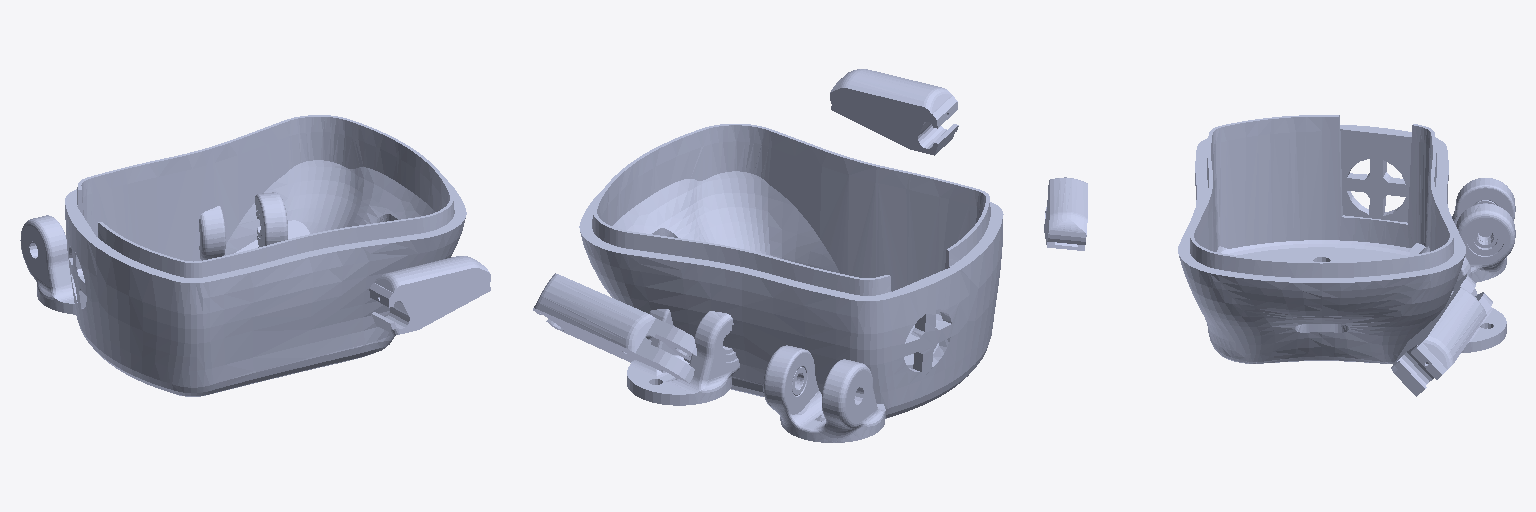
robot.urdf — Hand_Assem:
<robot
  name="Hand_Assem">
  <link
    name="base_link">
    <inertial>
      <origin
        xyz="-5.94499379767515E-07 0.00413446238542434 0.000131592809756376"
        rpy="0 0 0" />
      <mass
        value="0.119487276057046" />
      <inertia
        ixx="8.85596786118175E-05"
        ixy="3.17516300891029E-09"
        ixz="-2.20936042493155E-10"
        iyy="5.75221337379508E-05"
        iyz="7.86631733355722E-07"
        izz="0.000138119981949424" />
    </inertial>
    <visual>
      <origin
        xyz="0 0 0"
        rpy="0 0 0" />
      <geometry>
        <mesh
          filename="package://Hand_Assem/meshes/base_link.STL" />
      </geometry>
      <material
        name="">
        <color
          rgba="0.792156862745098 0.819607843137255 0.933333333333333 1" />
      </material>
    </visual>
    <collision>
      <origin
        xyz="0 0 0"
        rpy="0 0 0" />
      <geometry>
        <mesh
          filename="package://Hand_Assem/meshes/base_link.STL" />
      </geometry>
    </collision>
  </link>
  <link
    name="swivel1">
    <inertial>
      <origin
        xyz="1.21430643318377E-17 0.0025 -6.93889390390723E-18"
        rpy="0 0 0" />
      <mass
        value="0.000883572933822129" />
      <inertia
        ixx="1.42660213273365E-08"
        ixy="-8.64127043520705E-26"
        ixz="-4.13590306276514E-25"
        iyy="2.48504887637474E-08"
        iyz="-5.48986024840841E-25"
        izz="1.42660213273365E-08" />
    </inertial>
    <visual>
      <origin
        xyz="0 0 0"
        rpy="0 0 0" />
      <geometry>
        <mesh
          filename="package://Hand_Assem/meshes/swivel1.STL" />
      </geometry>
      <material
        name="">
        <color
          rgba="0.792156862745098 0.819607843137255 0.933333333333333 1" />
      </material>
    </visual>
    <collision>
      <origin
        xyz="0 0 0"
        rpy="0 0 0" />
      <geometry>
        <mesh
          filename="package://Hand_Assem/meshes/swivel1.STL" />
      </geometry>
    </collision>
  </link>
  <joint
    name="pre1_joint"
    type="continuous">
    <origin
      xyz="0.03 0.05 0.01"
      rpy="1.5707963267949 -1.69494838680934E-17 -0.280478227509652" />
    <parent
      link="base_link" />
    <child
      link="swivel1" />
    <axis
      xyz="0 -1 0" />
  </joint>
  <link
    name="proximal1">
    <inertial>
      <origin
        xyz="-0.00352752693347735 0.00290988981195315 0.0256426021499178"
        rpy="0 0 0" />
      <mass
        value="0.0148975087746268" />
      <inertia
        ixx="5.31012548767204E-06"
        ixy="-3.45550357342132E-08"
        ixz="-6.0889197355444E-07"
        iyy="5.5547075605714E-06"
        iyz="4.43597563773177E-07"
        izz="9.0753208316769E-07" />
    </inertial>
    <visual>
      <origin
        xyz="0 0 0"
        rpy="0 0 0" />
      <geometry>
        <mesh
          filename="package://Hand_Assem/meshes/proximal1.STL" />
      </geometry>
      <material
        name="">
        <color
          rgba="0.792156862745098 0.819607843137255 0.933333333333333 1" />
      </material>
    </visual>
    <collision>
      <origin
        xyz="0 0 0"
        rpy="0 0 0" />
      <geometry>
        <mesh
          filename="package://Hand_Assem/meshes/proximal1.STL" />
      </geometry>
    </collision>
  </link>
  <joint
    name="prox1_joint"
    type="continuous">
    <origin
      xyz="0 0.00500000000000002 0"
      rpy="-2.3571185793819 -1.11022302462516E-16 5.55111512312578E-17" />
    <parent
      link="swivel1" />
    <child
      link="proximal1" />
    <axis
      xyz="0.985087213479352 0.12154931079608 0.121774163452202" />
  </joint>
  <link
    name="distal1">
    <inertial>
      <origin
        xyz="0.00738402874375131 0.00225440630300303 0.0125136333109826"
        rpy="0 0 0" />
      <mass
        value="0.00178113983946129" />
      <inertia
        ixx="1.55836545066438E-07"
        ixy="1.25960415857285E-09"
        ixz="1.28427112773454E-09"
        iyy="1.60634657953424E-07"
        iyz="1.41476643066665E-08"
        izz="2.45252180680823E-08" />
    </inertial>
    <visual>
      <origin
        xyz="0 0 0"
        rpy="0 0 0" />
      <geometry>
        <mesh
          filename="package://Hand_Assem/meshes/distal1.STL" />
      </geometry>
      <material
        name="">
        <color
          rgba="0.792156862745098 0.819607843137255 0.933333333333333 1" />
      </material>
    </visual>
    <collision>
      <origin
        xyz="0 0 0"
        rpy="0 0 0" />
      <geometry>
        <mesh
          filename="package://Hand_Assem/meshes/distal1.STL" />
      </geometry>
    </collision>
  </link>
  <joint
    name="dist1_joint"
    type="continuous">
    <origin
      xyz="0 0 0.06"
      rpy="-0.622966572193815 0 -3.14159265358979" />
    <parent
      link="proximal1" />
    <child
      link="distal1" />
    <axis
      xyz="0.985087213479352 0.16976519196691 -0.0279814480669573" />
  </joint>
  <link
    name="swivel2">
    <inertial>
      <origin
        xyz="0 0.0025 -6.93889390390723E-18"
        rpy="0 0 0" />
      <mass
        value="0.000883572933822129" />
      <inertia
        ixx="1.42660213273365E-08"
        ixy="3.20151846105098E-41"
        ixz="1.49352366668667E-56"
        iyy="2.48504887637474E-08"
        iyz="-7.63913390785988E-42"
        izz="1.42660213273365E-08" />
    </inertial>
    <visual>
      <origin
        xyz="0 0 0"
        rpy="0 0 0" />
      <geometry>
        <mesh
          filename="package://Hand_Assem/meshes/swivel2.STL" />
      </geometry>
      <material
        name="">
        <color
          rgba="0.792156862745098 0.819607843137255 0.933333333333333 1" />
      </material>
    </visual>
    <collision>
      <origin
        xyz="0 0 0"
        rpy="0 0 0" />
      <geometry>
        <mesh
          filename="package://Hand_Assem/meshes/swivel2.STL" />
      </geometry>
    </collision>
  </link>
  <joint
    name="pre2_joint"
    type="continuous">
    <origin
      xyz="-0.03 0.05 0.01"
      rpy="1.5707963267949 0 3.14159265358979" />
    <parent
      link="base_link" />
    <child
      link="swivel2" />
    <axis
      xyz="0 -1 0" />
  </joint>
  <link
    name="proximal2">
    <inertial>
      <origin
        xyz="1.37984810142863E-06 0.00312573908182816 0.0258588886616745"
        rpy="0 0 0" />
      <mass
        value="0.0148975217878698" />
      <inertia
        ixx="5.38969105151938E-06"
        ixy="-7.694331112335E-11"
        ixz="-8.25768270591644E-11"
        iyy="5.55017419440215E-06"
        iyz="4.83313430938826E-07"
        izz="8.32523618336155E-07" />
    </inertial>
    <visual>
      <origin
        xyz="0 0 0"
        rpy="0 0 0" />
      <geometry>
        <mesh
          filename="package://Hand_Assem/meshes/proximal2.STL" />
      </geometry>
      <material
        name="">
        <color
          rgba="0.792156862745098 0.819607843137255 0.933333333333333 1" />
      </material>
    </visual>
    <collision>
      <origin
        xyz="0 0 0"
        rpy="0 0 0" />
      <geometry>
        <mesh
          filename="package://Hand_Assem/meshes/proximal2.STL" />
      </geometry>
    </collision>
  </link>
  <joint
    name="prox2_joint"
    type="continuous">
    <origin
      xyz="0 0.005 0"
      rpy="0.426965839384772 0 3.14159265358979" />
    <parent
      link="swivel2" />
    <child
      link="proximal2" />
    <axis
      xyz="1 0 0" />
  </joint>
  <link
    name="distal2">
    <inertial>
      <origin
        xyz="3.26305220239853E-08 0.001622935252079 0.0126177303957976"
        rpy="0 0 0" />
      <mass
        value="0.00178113764041426" />
      <inertia
        ixx="1.55655486828629E-07"
        ixy="-2.75152606655742E-13"
        ixz="-2.33493473893843E-12"
        iyy="1.6085100841643E-07"
        iyz="1.40557557989736E-08"
        izz="2.4489016904531E-08" />
    </inertial>
    <visual>
      <origin
        xyz="0 0 0"
        rpy="0 0 0" />
      <geometry>
        <mesh
          filename="package://Hand_Assem/meshes/distal2.STL" />
      </geometry>
      <material
        name="">
        <color
          rgba="0.792156862745098 0.819607843137255 0.933333333333333 1" />
      </material>
    </visual>
    <collision>
      <origin
        xyz="0 0 0"
        rpy="0 0 0" />
      <geometry>
        <mesh
          filename="package://Hand_Assem/meshes/distal2.STL" />
      </geometry>
    </collision>
  </link>
  <joint
    name="dist2_joint"
    type="continuous">
    <origin
      xyz="0 0 0.0600000000000002"
      rpy="-0.375054915994839 0 3.14159265358979" />
    <parent
      link="proximal2" />
    <child
      link="distal2" />
    <axis
      xyz="1 0 0" />
  </joint>
  <link
    name="proximal3">
    <inertial>
      <origin
        xyz="1.37984918261376E-06 0.00312579481637378 0.0258589112713084"
        rpy="0 0 0" />
      <mass
        value="0.0148975101146733" />
      <inertia
        ixx="5.38968041189396E-06"
        ixy="-8.09190706844375E-11"
        ixz="-8.41980905598702E-11"
        iyy="5.55016815700339E-06"
        iyz="4.83309754721751E-07"
        izz="8.32518549181588E-07" />
    </inertial>
    <visual>
      <origin
        xyz="0 0 0"
        rpy="0 0 0" />
      <geometry>
        <mesh
          filename="package://Hand_Assem/meshes/proximal3.STL" />
      </geometry>
      <material
        name="">
        <color
          rgba="0.792156862745098 0.819607843137255 0.933333333333333 1" />
      </material>
    </visual>
    <collision>
      <origin
        xyz="0 0 0"
        rpy="0 0 0" />
      <geometry>
        <mesh
          filename="package://Hand_Assem/meshes/proximal3.STL" />
      </geometry>
    </collision>
  </link>
  <joint
    name="prox3_joint"
    type="continuous">
    <origin
      xyz="0 -0.0499999999999999 0.0100000000000002"
      rpy="-0.814167688836964 -1.46499718401691E-16 -3.14159265358979" />
    <parent
      link="base_link" />
    <child
      link="proximal3" />
    <axis
      xyz="1 0 0" />
  </joint>
  <link
    name="distal3">
    <inertial>
      <origin
        xyz="3.26306167291171E-08 0.00162295655945728 0.0126177356357311"
        rpy="0 0 0" />
      <mass
        value="0.00178113247098447" />
      <inertia
        ixx="1.55655268166027E-07"
        ixy="-2.86253978370765E-13"
        ixz="-2.3262634178646E-12"
        iyy="1.60850860255439E-07"
        iyz="1.40555315117754E-08"
        izz="2.4488894708622E-08" />
    </inertial>
    <visual>
      <origin
        xyz="0 0 0"
        rpy="0 0 0" />
      <geometry>
        <mesh
          filename="package://Hand_Assem/meshes/distal3.STL" />
      </geometry>
      <material
        name="">
        <color
          rgba="0.792156862745098 0.819607843137255 0.933333333333333 1" />
      </material>
    </visual>
    <collision>
      <origin
        xyz="0 0 0"
        rpy="0 0 0" />
      <geometry>
        <mesh
          filename="package://Hand_Assem/meshes/distal3.STL" />
      </geometry>
    </collision>
  </link>
  <joint
    name="dist3_joint"
    type="continuous">
    <origin
      xyz="0 0 0.0600000000000002"
      rpy="-0.919760045737266 -1.19084230317202E-16 -3.14159265358979" />
    <parent
      link="proximal3" />
    <child
      link="distal3" />
    <axis
      xyz="1 0 0" />
  </joint>
</robot>

--- What the picture shows (computed from the rendered views, not written in the file) ---
3 views of the same robot in one strip: view 1: azimuth 30°, elevation 25°; view 2: azimuth 150°, elevation 25°; view 3: azimuth 270°, elevation 25° (orthographic).
Robot: Hand_Assem — 9 links, 8 joints (8 continuous); root link base_link; default pose: every joint at zero.
Links seen in each view (by area): view 1: base_link, distal3, swivel2, swivel1; view 2: base_link, swivel2, proximal1, distal3, swivel1; view 3: base_link, proximal1, swivel2, distal3, swivel1.
Link boxes in pixels (box(x1,y1,x2,y2)): base_link: box(65, 115, 466, 396); distal3: box(369, 256, 490, 334); swivel2: box(20, 215, 75, 314); swivel1: box(199, 192, 287, 260); base_link: box(579, 124, 1003, 418); swivel2: box(763, 345, 885, 442); proximal1: box(533, 273, 696, 383); distal3: box(830, 69, 958, 155); swivel1: box(627, 309, 739, 405); base_link: box(1178, 115, 1465, 363); proximal1: box(1391, 274, 1492, 396); swivel2: box(1410, 178, 1515, 282); distal3: box(1044, 177, 1087, 250); swivel1: box(1419, 246, 1506, 352).
Size in the robot's own frame: 0.1458 by 0.1728 by 0.0605 metres.
Meshes: 9 distinct files referenced, 5 mesh visuals loaded (5 binary STL); not drawn: 4 (reference not matched to a file when rendering).